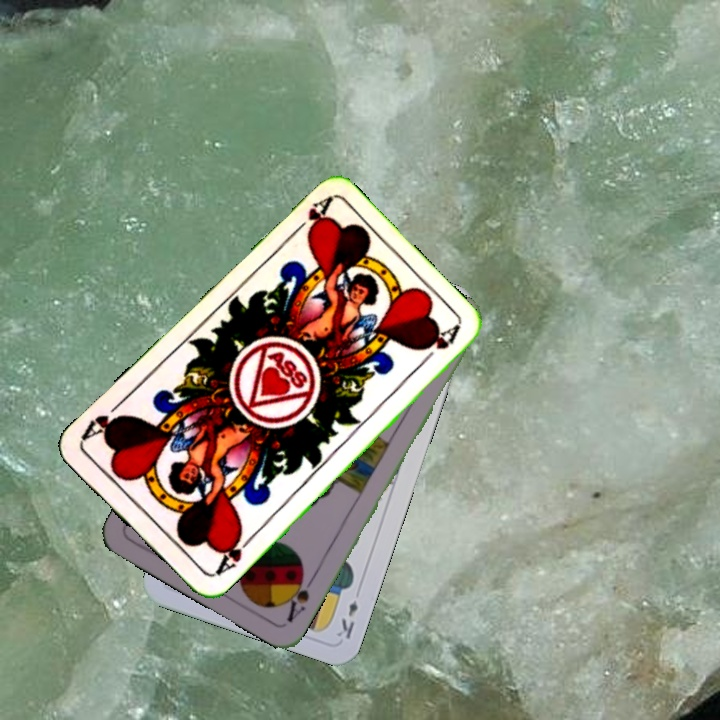EK: (333, 596, 361, 642)
HA: (210, 528, 256, 579), (286, 193, 334, 241)
SA: (281, 568, 318, 626)
